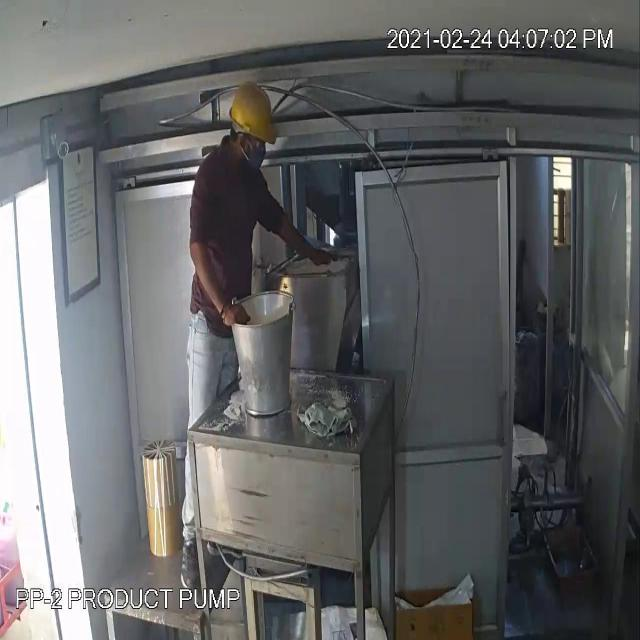helmet: (226, 70, 282, 156)
